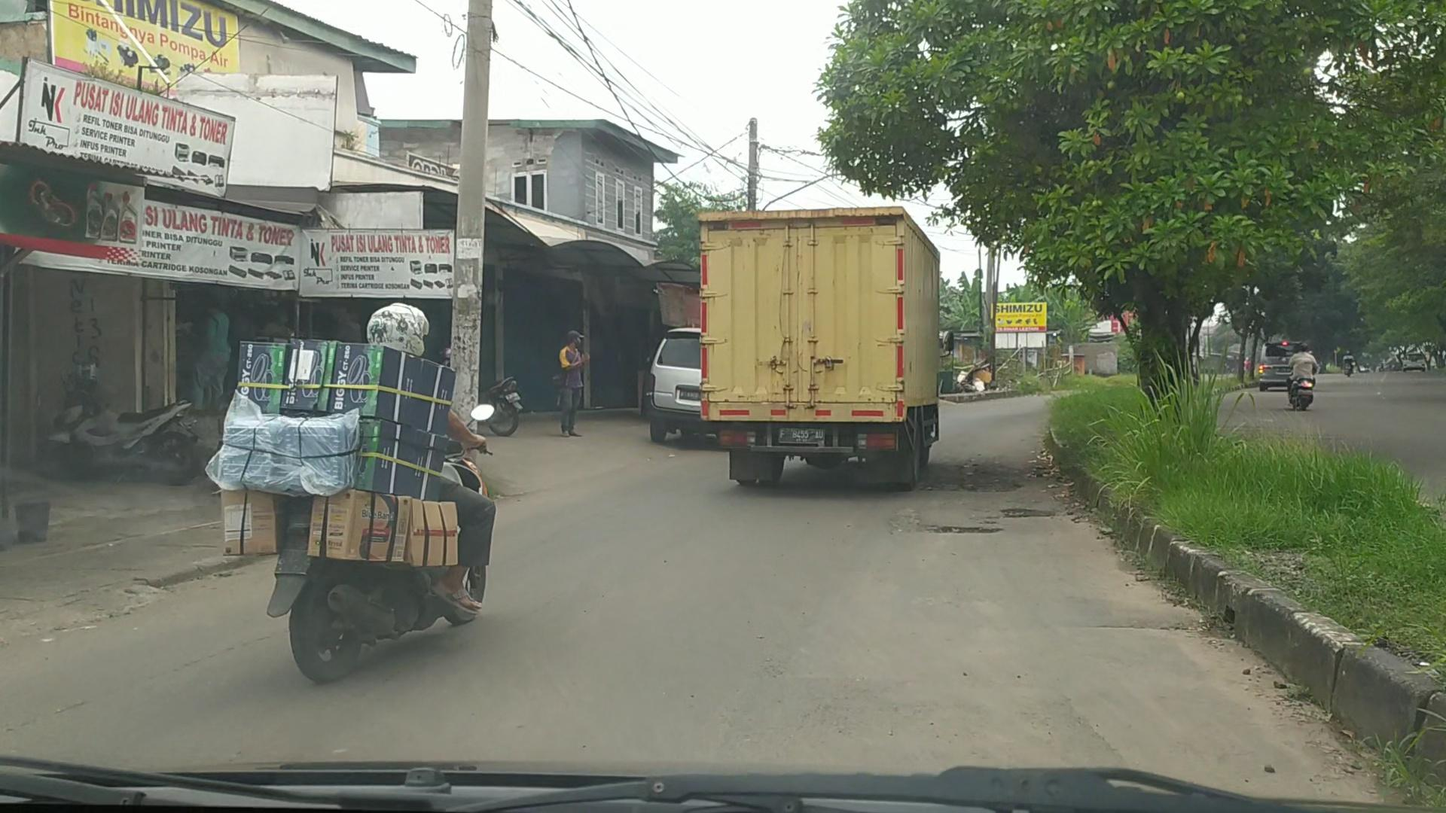pothole: (931, 523, 1001, 535), (998, 506, 1052, 515)
